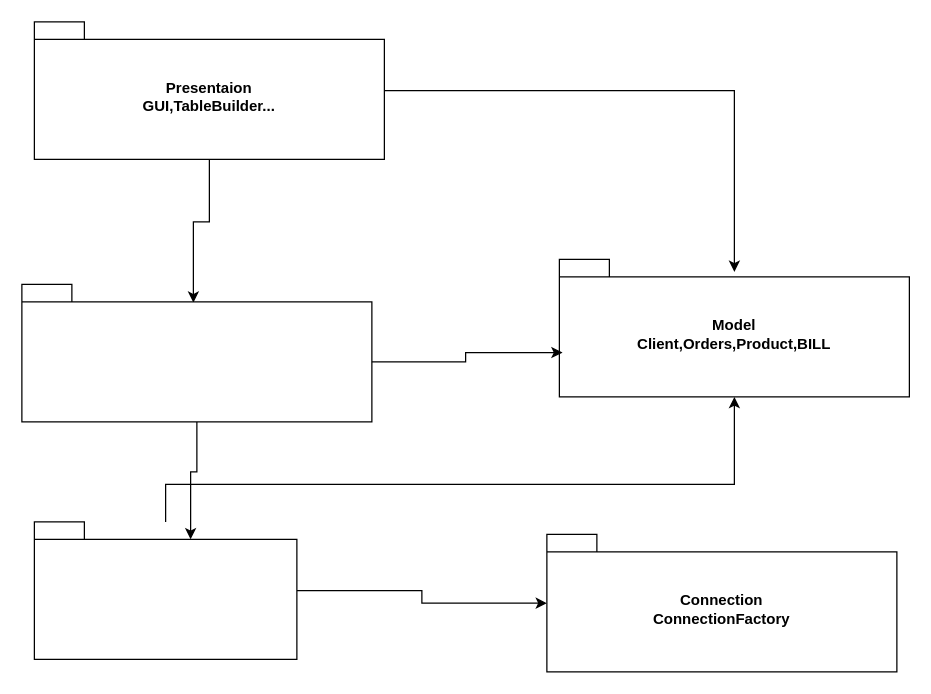
Some shapes in this 931 by 694 pixel diagram are drawn without their labels. Here are the shapes that lost their labels. From the top down, the box of each, then its label:
(21, 283, 372, 422): BusniessLogic ClientBLL ProductBLL
(33, 521, 297, 659): DataAccces GenericDAO ClientDAO ProductDAO OrdersDAO BillDAO
